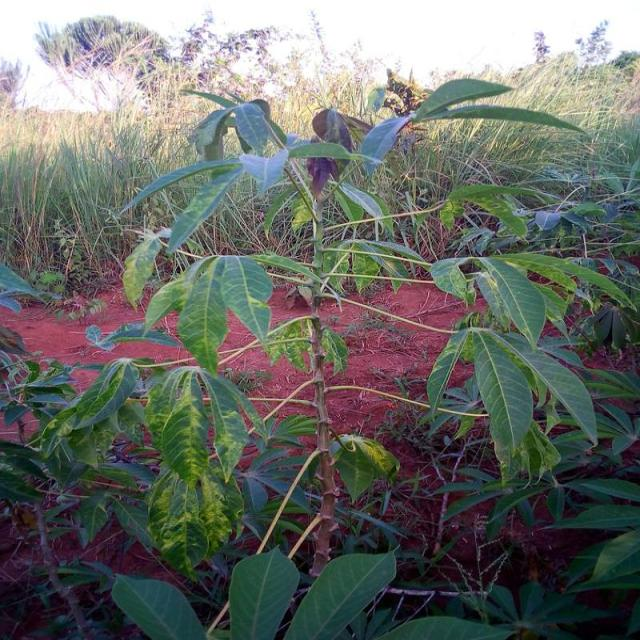cassava leaf: (285, 548, 398, 639)
